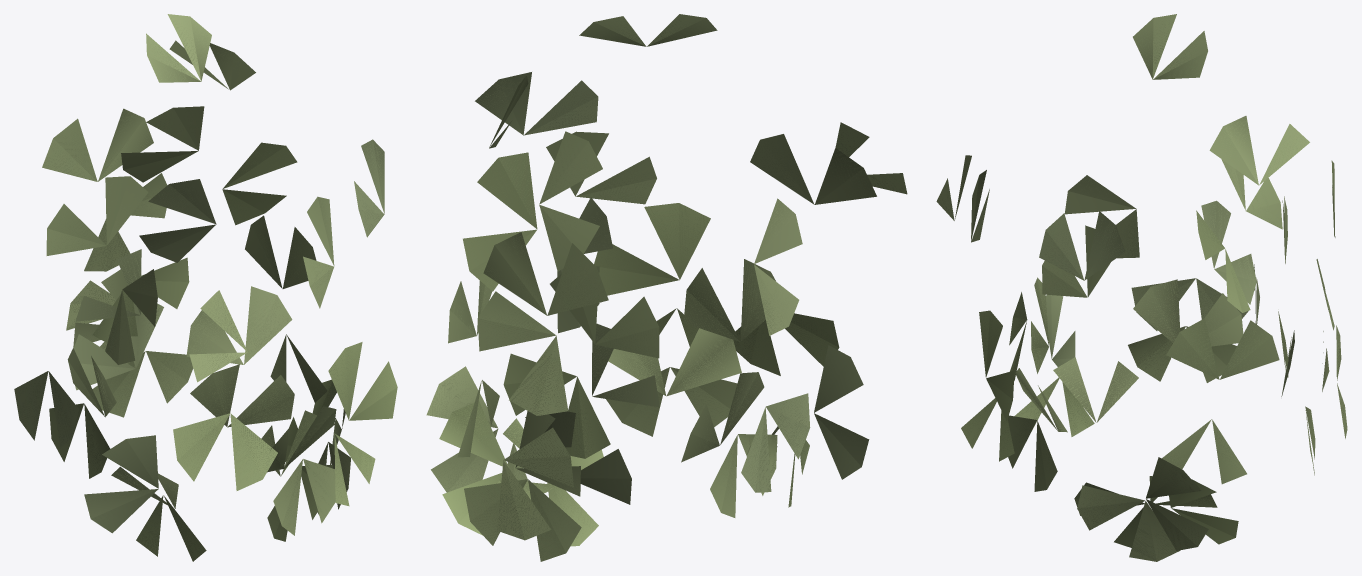
Rendered from ginkgo.lod.glb.
The picture shows the model from 3 angles, left to right: view 1: azimuth 30°, elevation 25°; view 2: azimuth 150°, elevation 25°; view 3: azimuth 270°, elevation 25°; orthographic projection. The views are drawn at different scales.
Parts seen in each view (by area): view 1: ginkgo; view 2: ginkgo; view 3: ginkgo.
Part boxes in pixels (x1=…): ginkgo: x1=14, y1=14, x2=397, y2=561; ginkgo: x1=426, y1=14, x2=907, y2=561; ginkgo: x1=936, y1=14, x2=1347, y2=561.
Bounding box in the file's own units: 5.16 × 7.73 × 5.91.
